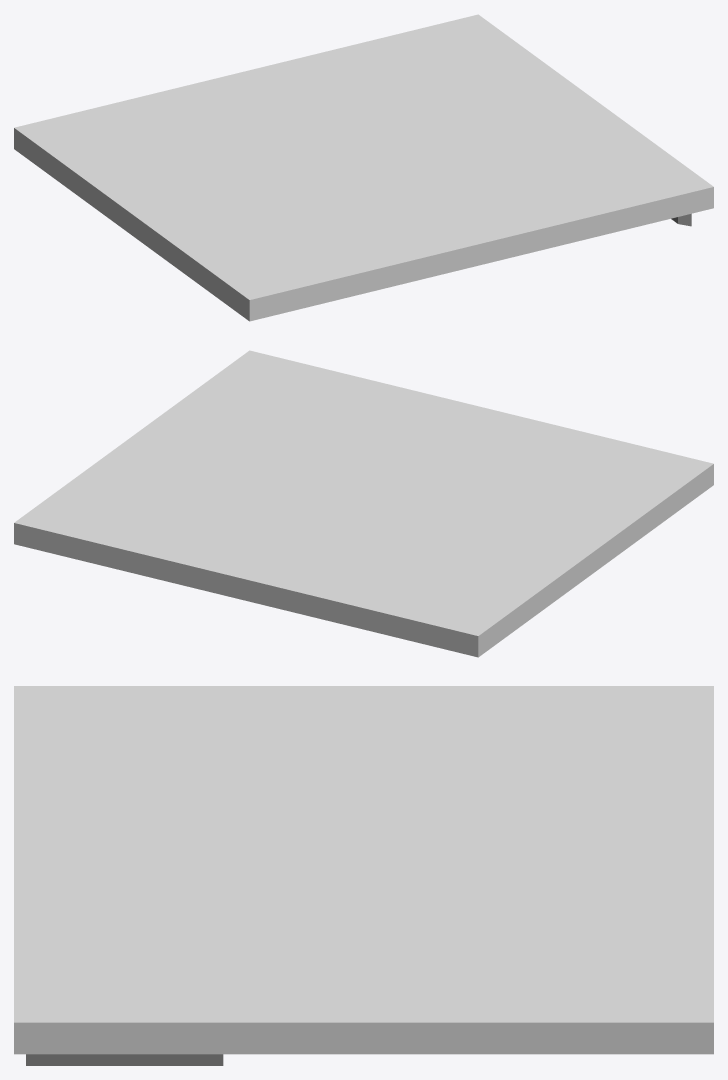
The model's file is Counter_Door_1.obj.
The picture shows the model from 3 angles, top to bottom: view 1: azimuth 30°, elevation 25°; view 2: azimuth 150°, elevation 25°; view 3: azimuth 270°, elevation 25°; orthographic projection. The views are drawn at different scales.
Visible parts, largest first — view 1: Counter_Door_1; view 2: Counter_Door_1; view 3: Counter_Door_1.
Part boxes in pixels (bbox=[...]): Counter_Door_1: bbox=[14, 14, 713, 321]; Counter_Door_1: bbox=[14, 350, 713, 657]; Counter_Door_1: bbox=[14, 686, 713, 1065].
Size of the model in its own units: 0.9456 by 0.074 by 0.8309.
